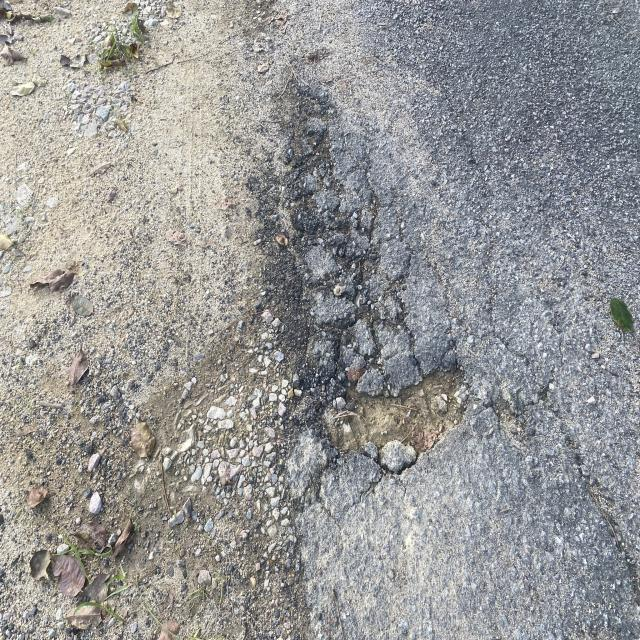pothole: (195, 94, 474, 586)
